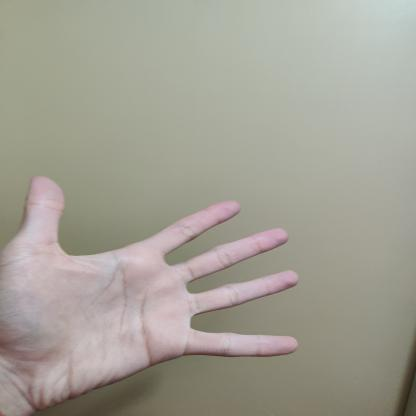bare_hand: (0, 167, 306, 416)
